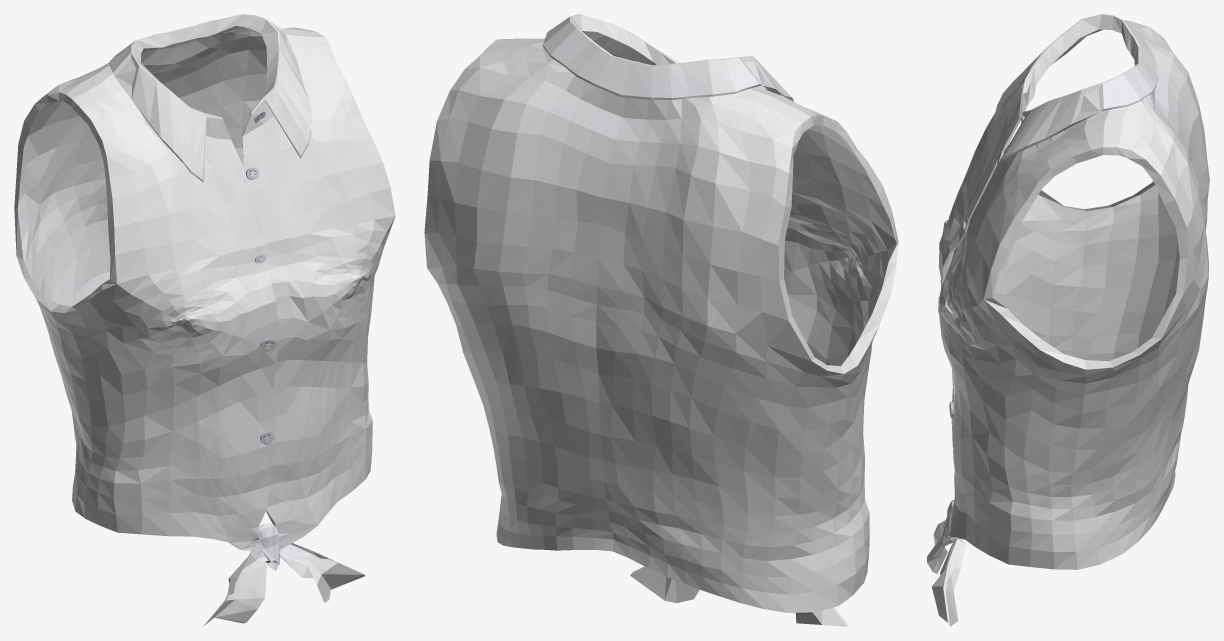
File: mhw_punkduck_sleeveless_shirt.glb
3 views of the same model, side by side, from view 1: azimuth 30°, elevation 25°; view 2: azimuth 150°, elevation 25°; view 3: azimuth 270°, elevation 25° (orthographic). The views are drawn at different scales.
Parts seen in each view (by area): view 1: mhw_punkduck_sleeveless_shirt; view 2: mhw_punkduck_sleeveless_shirt; view 3: mhw_punkduck_sleeveless_shirt.
Part boxes in pixels (left/top/right/bottom): mhw_punkduck_sleeveless_shirt: left=14, top=14, right=395, bottom=625; mhw_punkduck_sleeveless_shirt: left=424, top=14, right=898, bottom=626; mhw_punkduck_sleeveless_shirt: left=927, top=14, right=1209, bottom=626.
Size of the model in its own units: 0.3637 by 0.5785 by 0.2709.
1 material, 1 textured.
